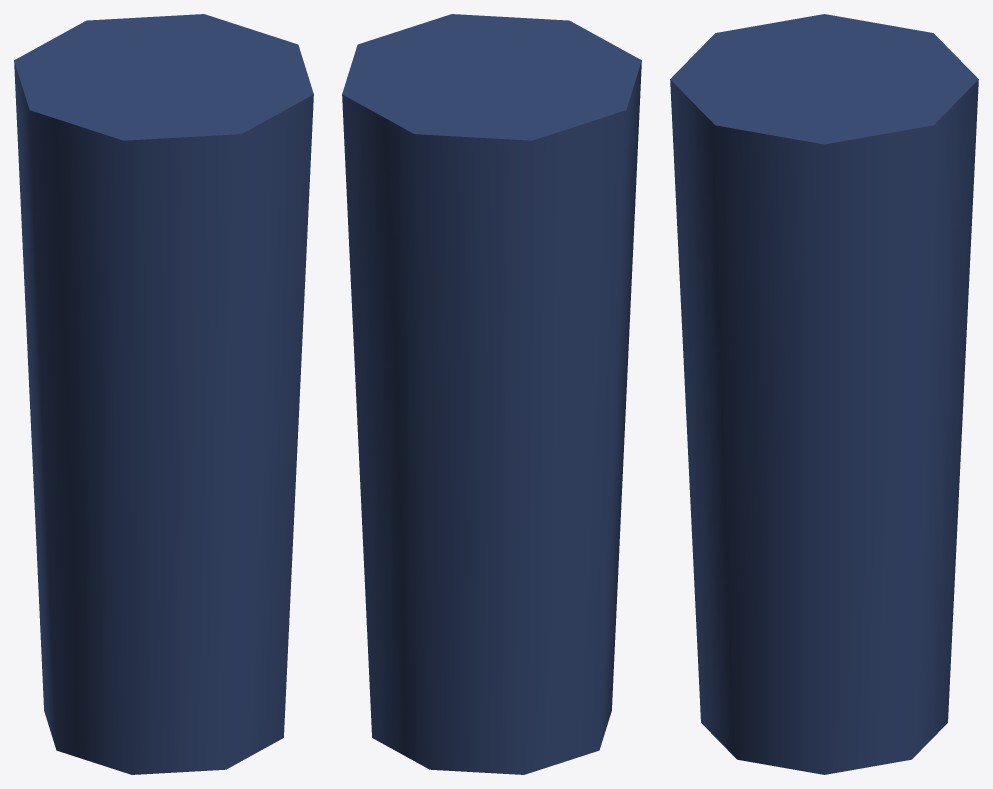
The model's file is PRezo_Muslo.obj.
The picture shows the model from 3 angles, left to right: view 1: azimuth 30°, elevation 25°; view 2: azimuth 150°, elevation 25°; view 3: azimuth 270°, elevation 25°; orthographic projection.
Parts seen in each view (by area): view 1: Muslo; view 2: Muslo; view 3: Muslo.
Boxes of the visible parts, bbox=[...] form: Muslo: bbox=[14, 14, 313, 774]; Muslo: bbox=[342, 14, 641, 774]; Muslo: bbox=[670, 14, 978, 774].
Size of the model in its own units: 0.1 by 0.23 by 0.1.
Materials: 1 (1 with a texture image).
